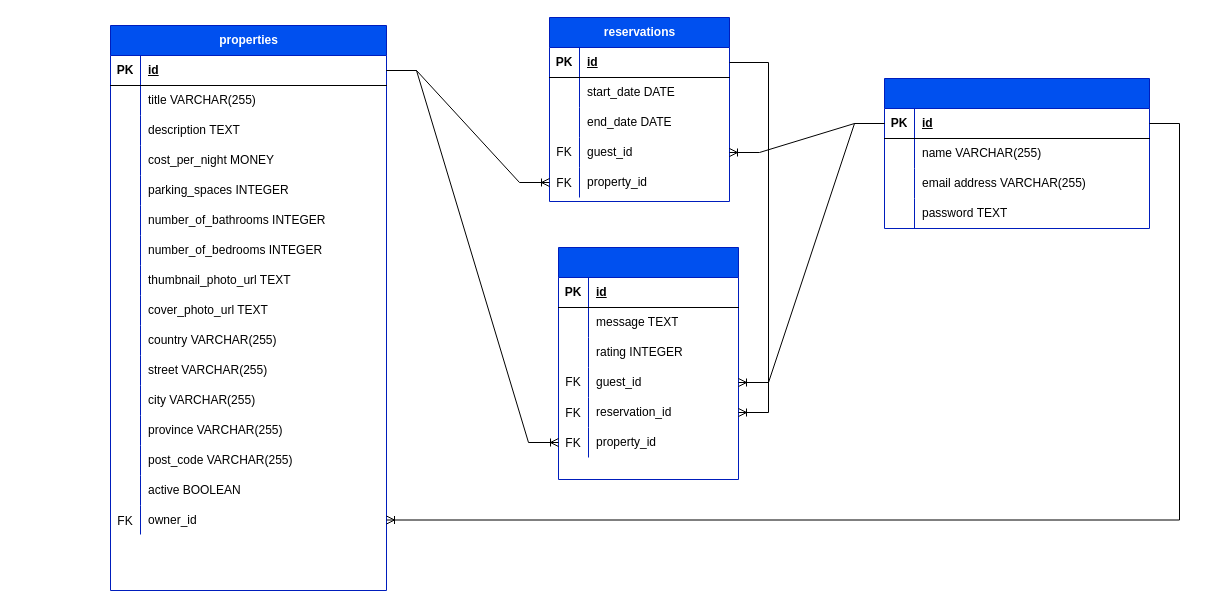
Some shapes in this 1205 by 608 pixel diagram are drawn without their labels. Each missing label, with the box of its shape:
propertyreviews: (558, 246, 738, 480)
users: (884, 78, 1150, 228)
